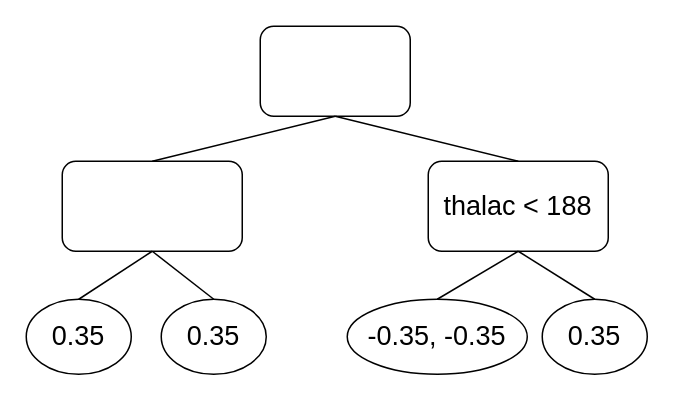
The diagram is 674 pixels wide and 401 high, and some of its shapes have lost their labels. The box of each missing label's shape, as (x1, y1, x2, y2) in pixels:
cp = 3: (259, 25, 410, 116)
thalac < 170: (61, 160, 242, 251)
